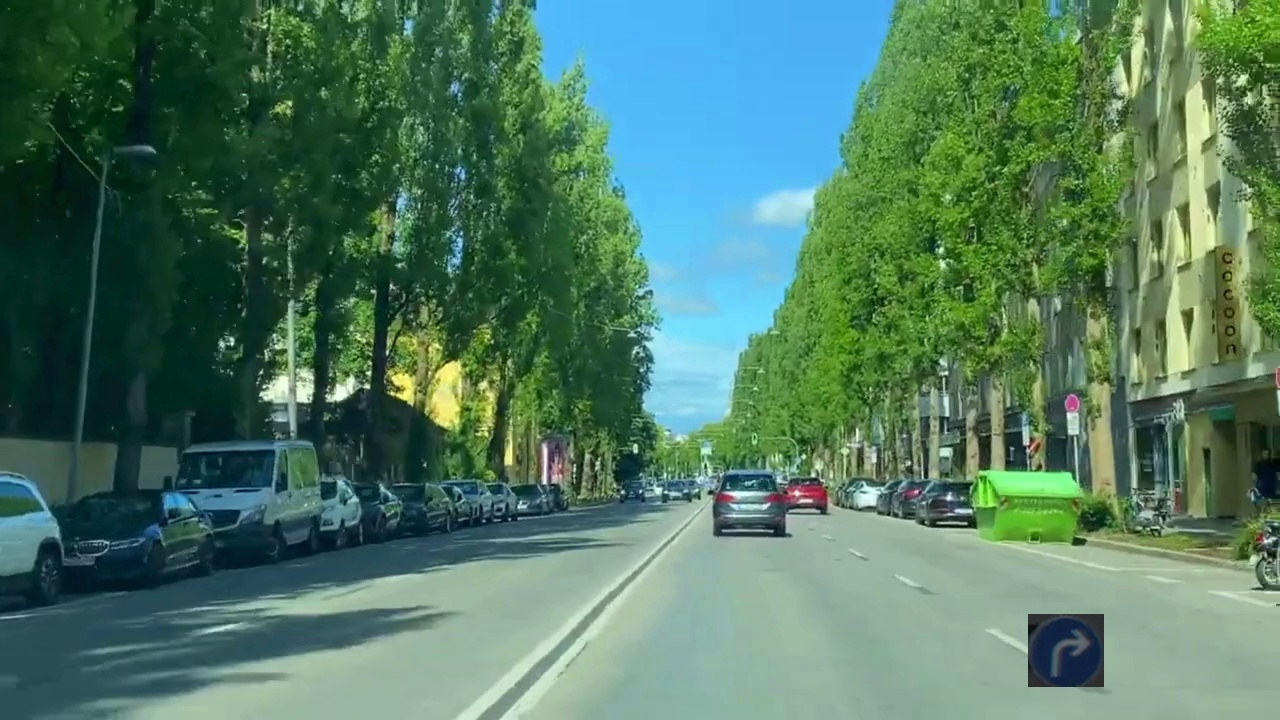Turn right: (1028, 614, 1104, 687)
